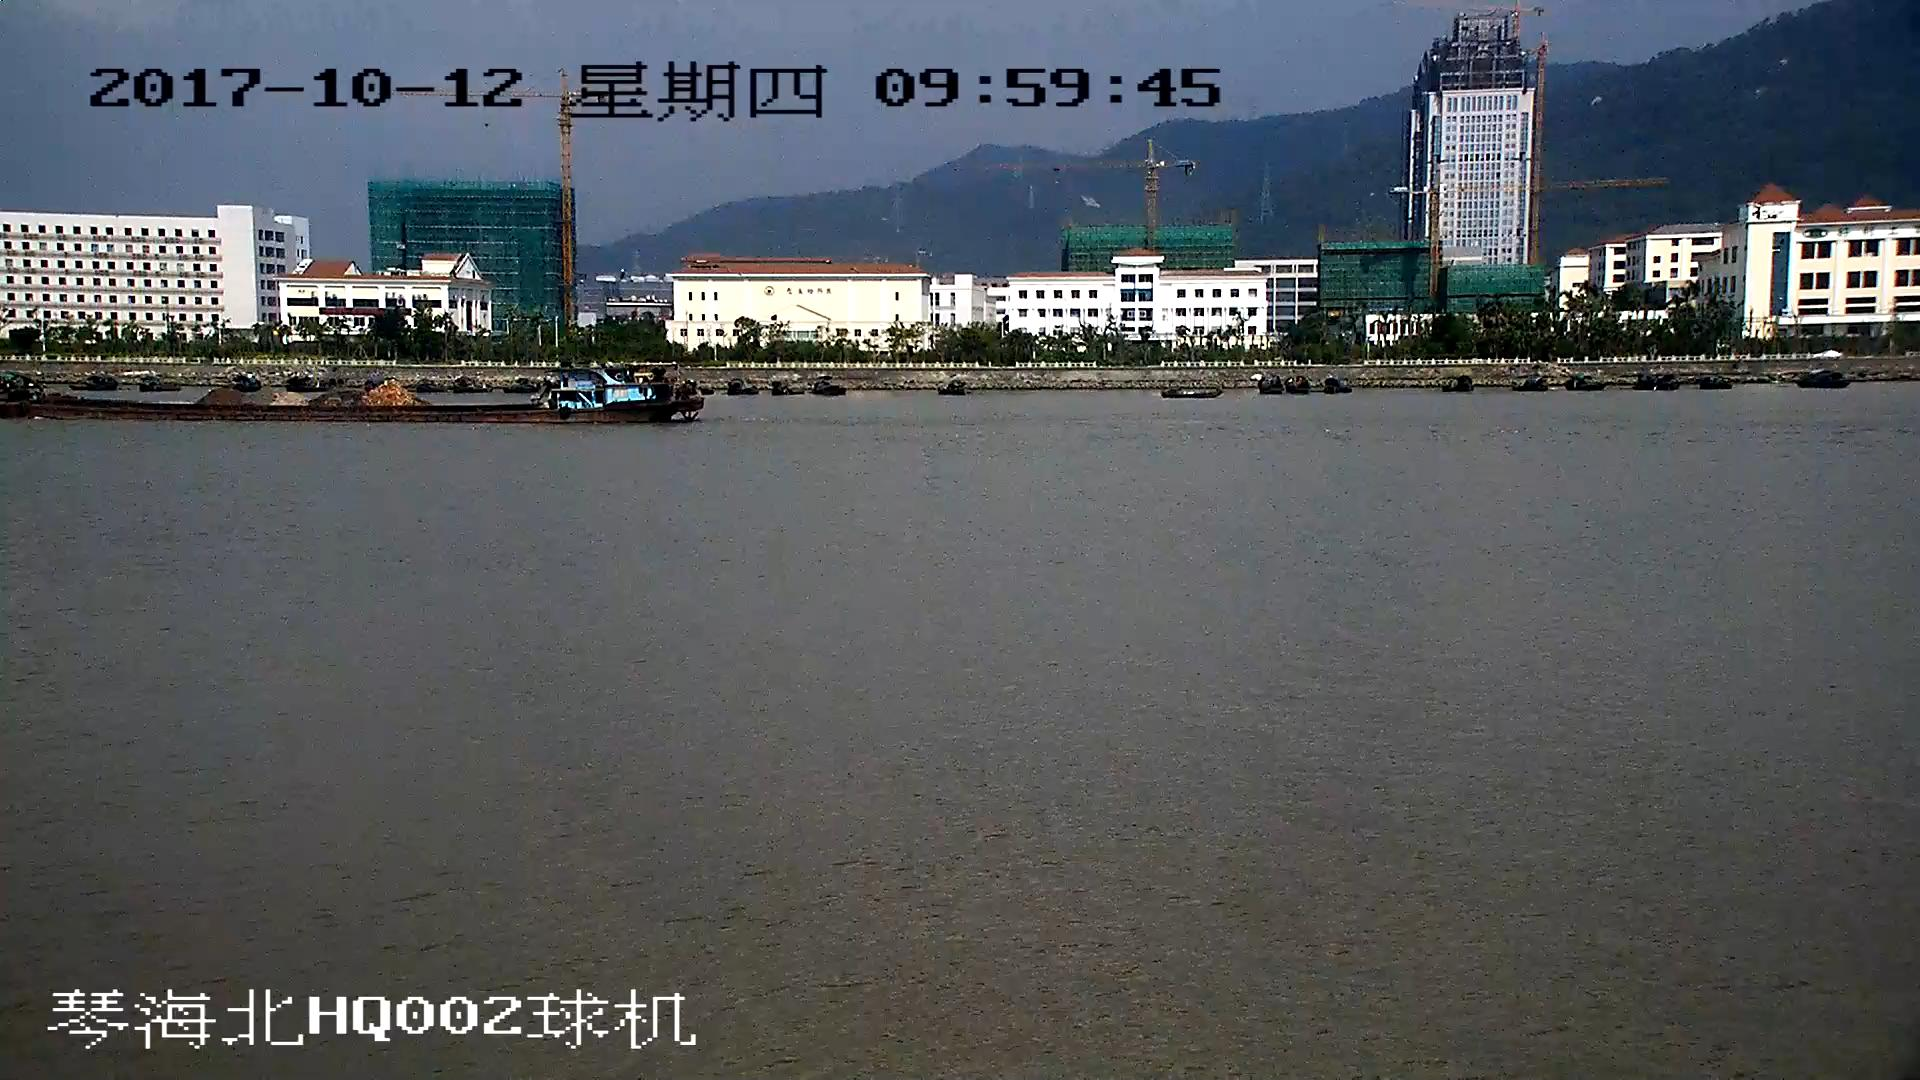ore carrier: (1, 357, 707, 424)
